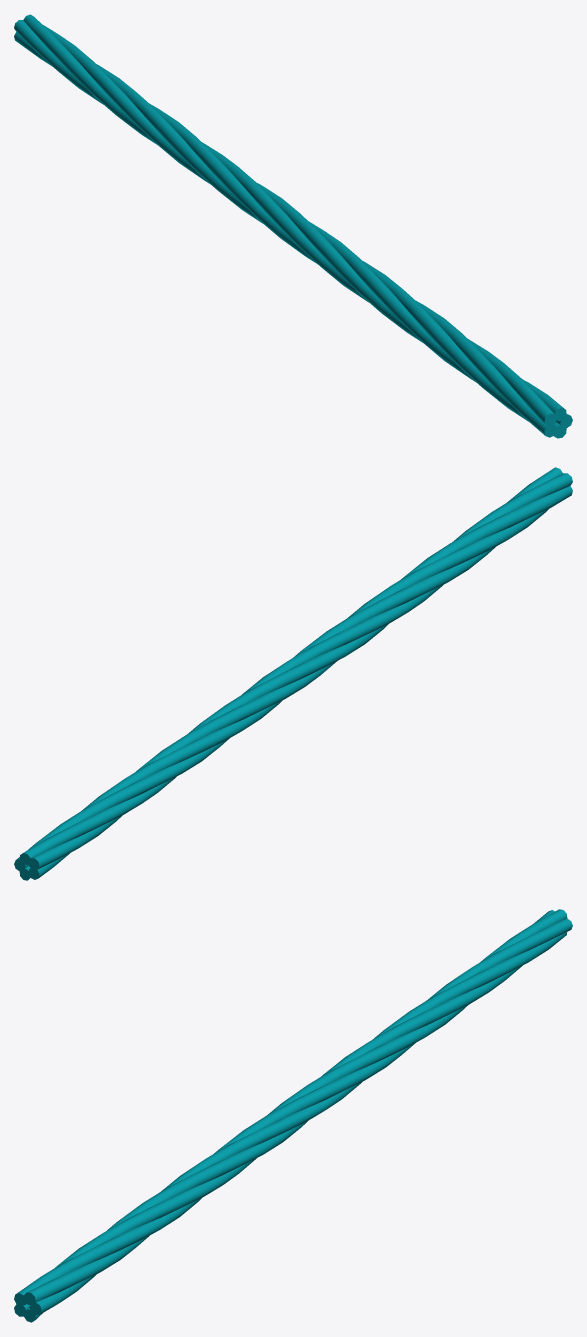
File: wire_5.fbx
The picture shows the model from 3 angles, top to bottom: view 1: azimuth 30°, elevation 25°; view 2: azimuth 150°, elevation 25°; view 3: azimuth 330°, elevation 25°; orthographic projection.
Parts seen in each view (by area): view 1: sweep2; view 2: sweep2; view 3: sweep2.
Part boxes in pixels (x1=…): sweep2: x1=14, y1=14, x2=572, y2=438; sweep2: x1=14, y1=467, x2=572, y2=880; sweep2: x1=14, y1=909, x2=572, y2=1322.
Size of the model in its own units: 0.0148 by 0.013 by 0.403.
